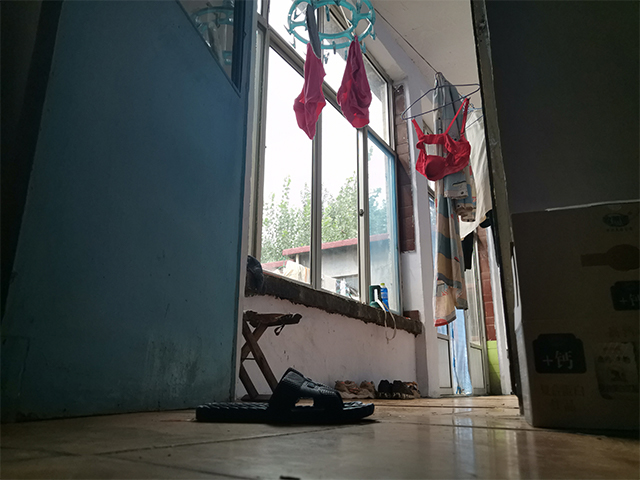slippers: (193, 365, 377, 427)
stool: (237, 308, 304, 403)
